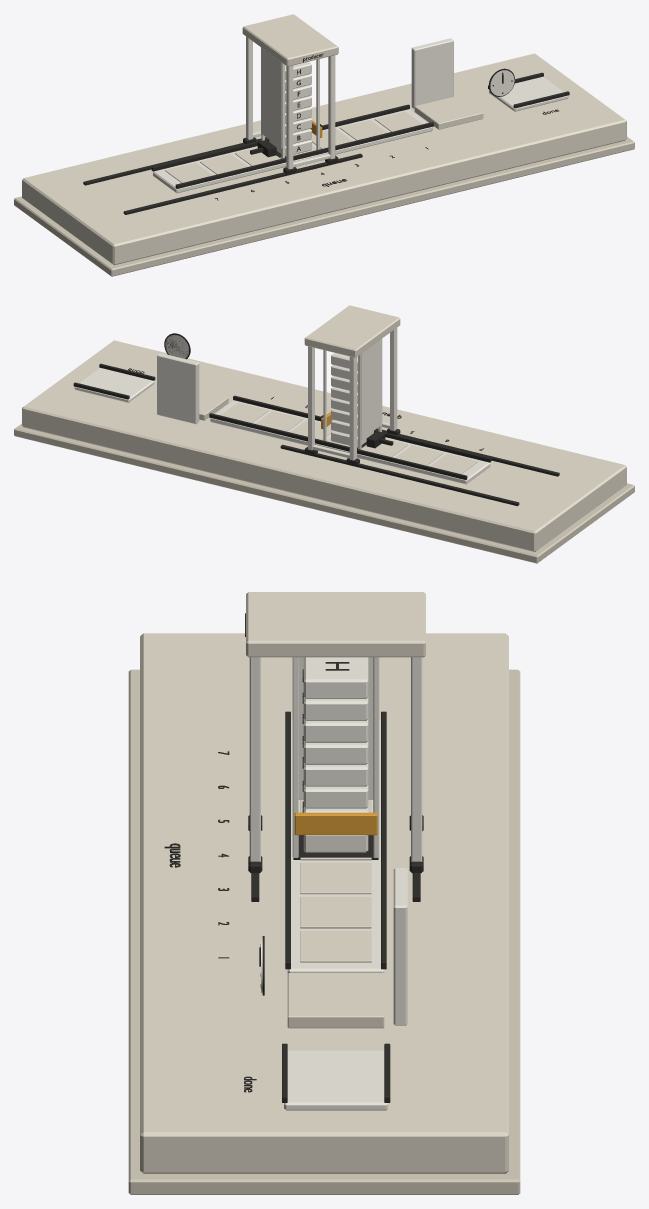
3 views of the same model, one above another, from view 1: azimuth 30°, elevation 25°; view 2: azimuth 150°, elevation 25°; view 3: azimuth 270°, elevation 25° (orthographic). The views are drawn at different scales.
Parts seen in each view (by area): view 1: Plinth, Queue_Trough, Producer_Frame, Tool, Done_Tray; view 2: Plinth, Queue_Trough, Producer_Frame, Tool, Done_Tray; view 3: Plinth, Producer_Frame, Queue_Trough, Tool, Done_Tray, Job_H, Producer_Latch, Job_C, Job_D, Job_E, Job_G, Job_F (+1 smaller).
Boxes of the visible parts, x1=… form: Plinth: x1=14, y1=53, x2=634, y2=276; Queue_Trough: x1=83, y1=104, x2=433, y2=214; Producer_Frame: x1=242, y1=14, x2=338, y2=173; Tool: x1=411, y1=38, x2=514, y2=129; Done_Tray: x1=488, y1=72, x2=569, y2=114; Plinth: x1=14, y1=340, x2=634, y2=563; Queue_Trough: x1=209, y1=395, x2=559, y2=506; Producer_Frame: x1=304, y1=305, x2=400, y2=464; Tool: x1=157, y1=333, x2=228, y2=424; Done_Tray: x1=73, y1=363, x2=155, y2=402; Plinth: x1=128, y1=633, x2=520, y2=1194; Producer_Frame: x1=245, y1=592, x2=425, y2=873; Queue_Trough: x1=164, y1=711, x2=420, y2=973; Tool: x1=260, y1=868, x2=407, y2=1028; Done_Tray: x1=244, y1=1043, x2=390, y2=1110; Job_H: x1=302, y1=657, x2=368, y2=698; Producer_Latch: x1=294, y1=812, x2=377, y2=835; Job_C: x1=302, y1=780, x2=368, y2=808; Job_D: x1=302, y1=757, x2=368, y2=786; Job_E: x1=302, y1=736, x2=368, y2=764; Job_G: x1=302, y1=692, x2=368, y2=720; Job_F: x1=302, y1=714, x2=368, y2=742.
Size of the model in its own units: 10.5 by 2.81 by 3.4.
